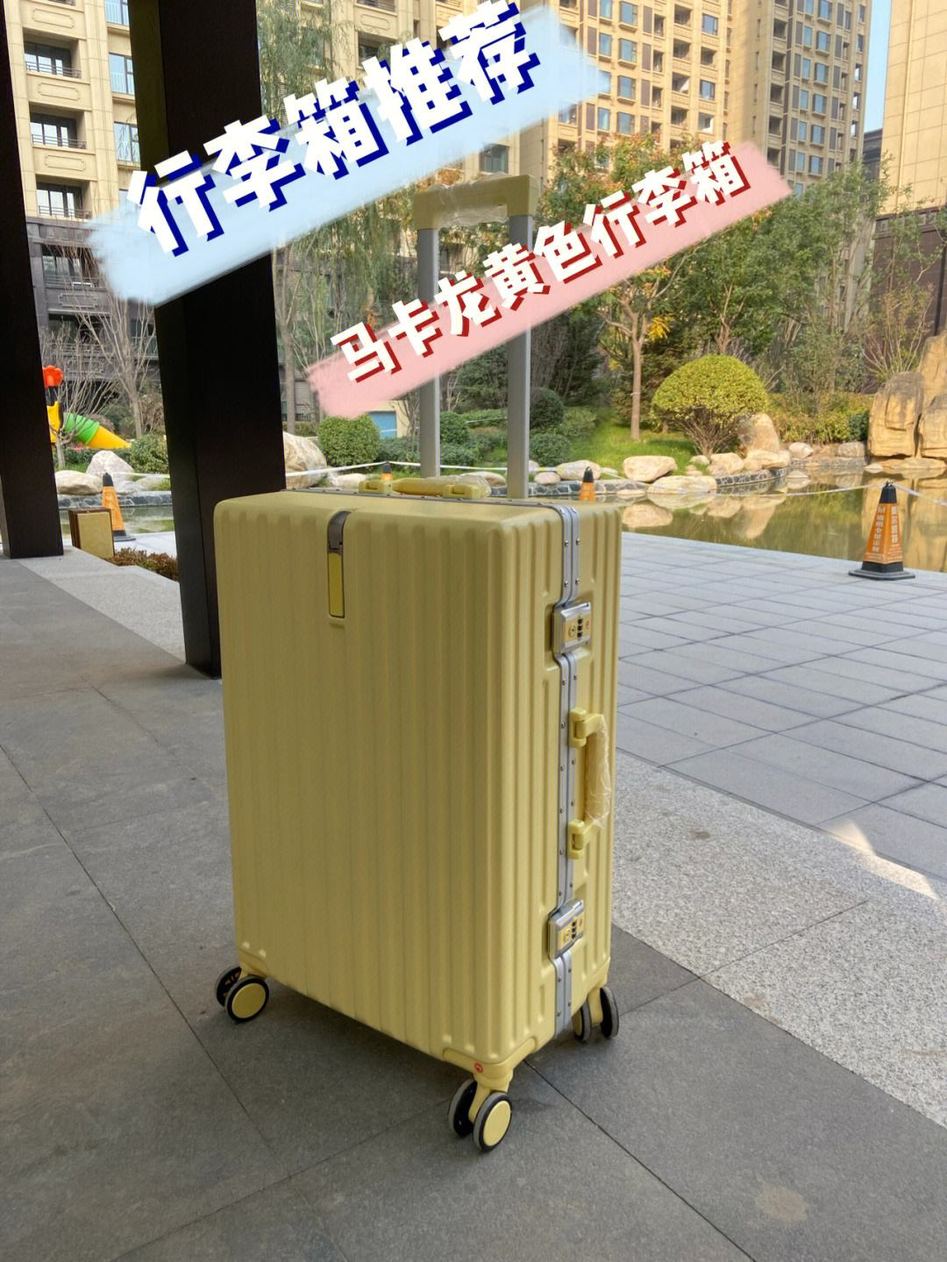box: (213, 487, 612, 1076)
handle: (565, 706, 611, 859), (359, 476, 488, 500)
lock: (547, 895, 585, 959), (552, 601, 591, 652)
wheel: (445, 1078, 512, 1153), (216, 966, 270, 1023), (572, 984, 619, 1042)
